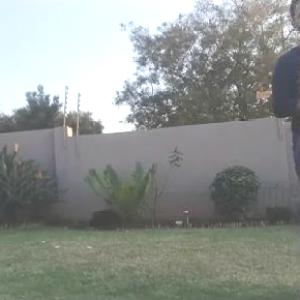follow: (267, 0, 299, 294)
